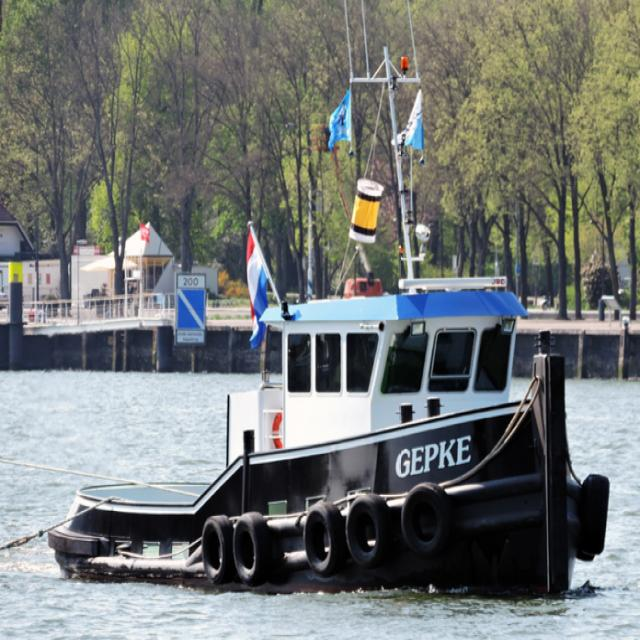tugboat: (41, 263, 615, 616)
